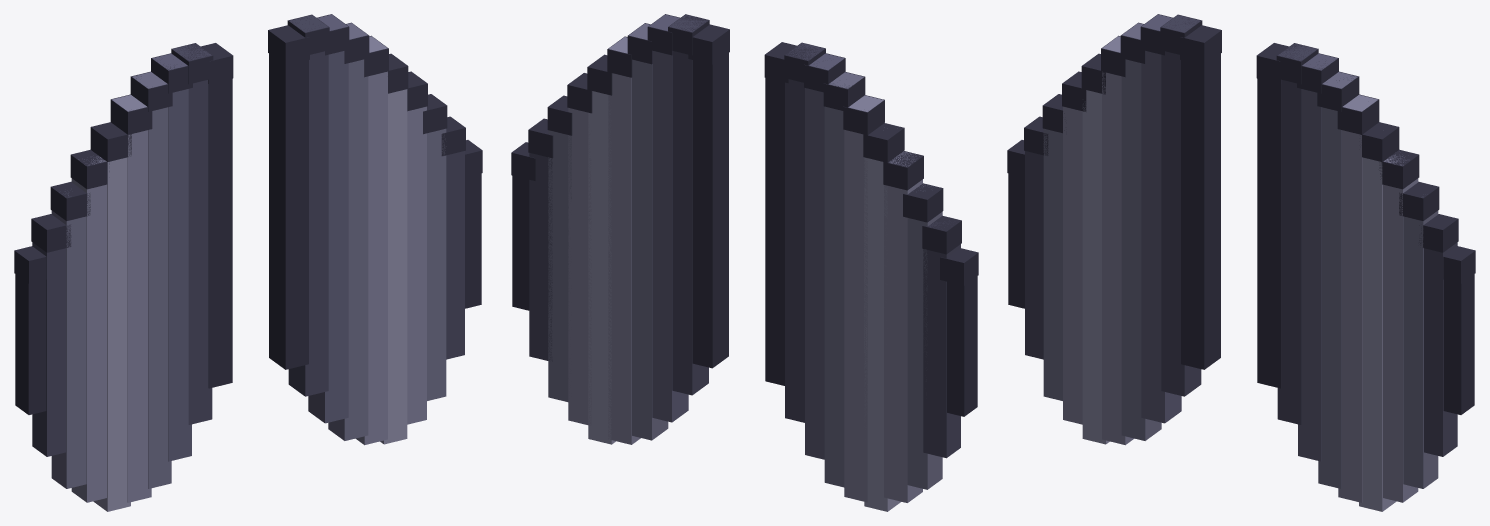
File: elytra_rig.glb
The picture shows the model from 3 angles, left to right: view 1: azimuth 30°, elevation 25°; view 2: azimuth 150°, elevation 25°; view 3: azimuth 330°, elevation 25°; orthographic projection.
Parts seen in each view (by area): view 1: Wing_R_m, Wing_L_m; view 2: Wing_L_m, Wing_R_m; view 3: Wing_L_m, Wing_R_m.
Part boxes in pixels (x1,y1,x2,y2): Wing_R_m: (14, 43, 233, 511); Wing_L_m: (268, 14, 482, 445); Wing_L_m: (511, 14, 729, 444); Wing_R_m: (764, 42, 978, 511); Wing_L_m: (1256, 43, 1475, 511); Wing_R_m: (1007, 14, 1221, 445).
Bounding box in the file's own units: 1.04 × 0.95 × 0.074.
